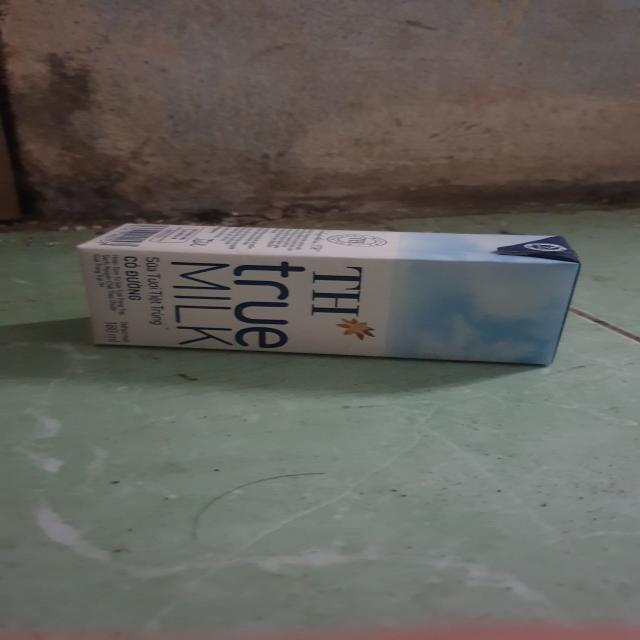TH: (80, 222, 582, 366)
